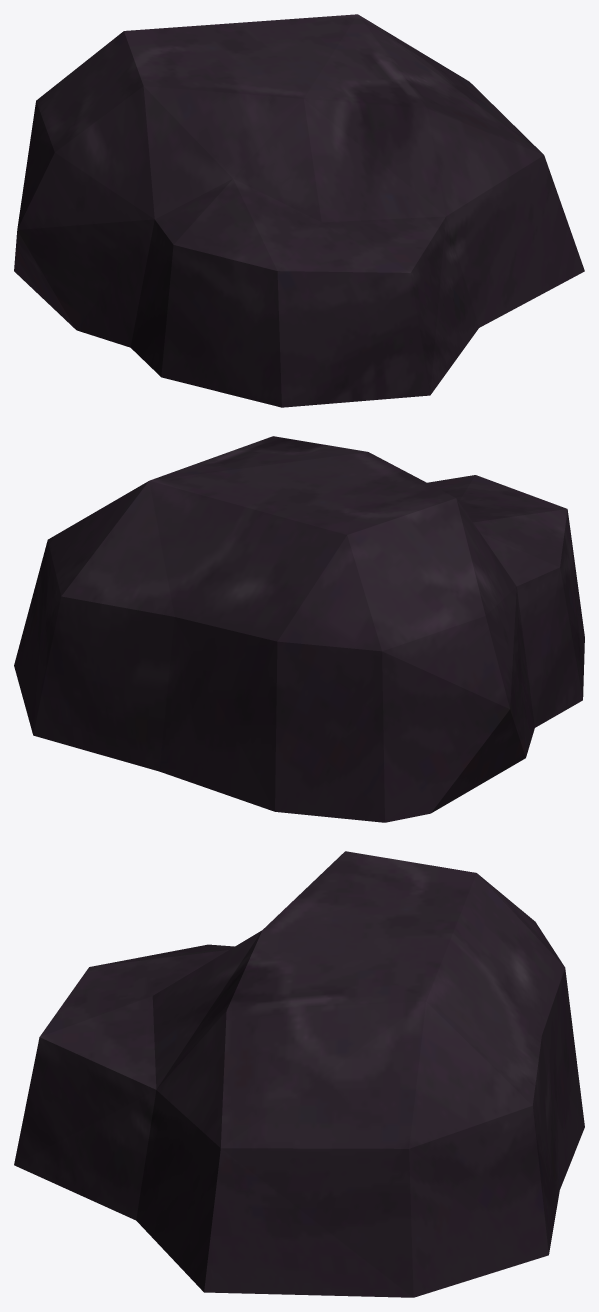
The model's file is cave_rock_03.fbx.
The picture shows the model from 3 angles, top to bottom: view 1: azimuth 30°, elevation 25°; view 2: azimuth 150°, elevation 25°; view 3: azimuth 270°, elevation 25°; orthographic projection. The views are drawn at different scales.
Visible parts, largest first — view 1: cave_tileset/rocks01_mat; view 2: cave_tileset/rocks01_mat; view 3: cave_tileset/rocks01_mat.
Boxes of the visible parts, bbox=[...] form: cave_tileset/rocks01_mat: bbox=[14, 14, 584, 407]; cave_tileset/rocks01_mat: bbox=[14, 436, 584, 822]; cave_tileset/rocks01_mat: bbox=[14, 851, 584, 1297].
Size of the model in its own units: 1.27 by 0.5878 by 1.24.
